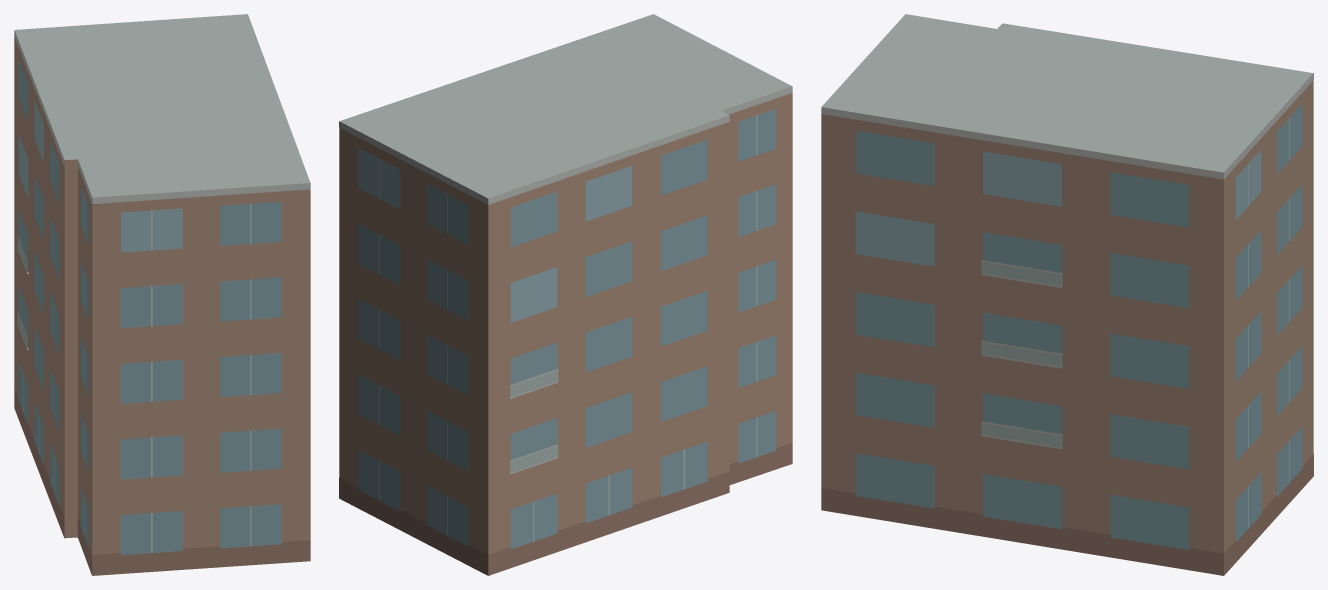
The model's file is survey-upis-32878039.glb.
3 views of the same model, side by side, from view 1: azimuth 30°, elevation 25°; view 2: azimuth 150°, elevation 25°; view 3: azimuth 270°, elevation 25° (orthographic). The views are drawn at different scales.
Parts seen in each view (by area): view 1: survey-upis-32878039.tmp; view 2: survey-upis-32878039.tmp; view 3: survey-upis-32878039.tmp.
Boxes of the visible parts, x1,y1,x2,y2 form: survey-upis-32878039.tmp: (14, 14, 310, 575); survey-upis-32878039.tmp: (339, 14, 792, 575); survey-upis-32878039.tmp: (821, 14, 1313, 575).
Size of the model in its own units: 12.17 by 14.4 by 15.95.
